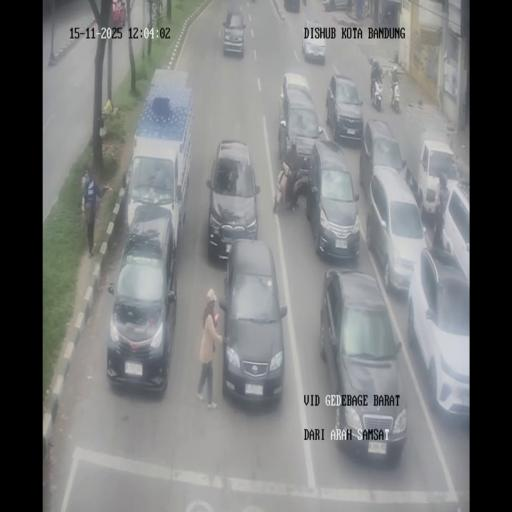car: (321, 268, 405, 460), (105, 204, 179, 392), (407, 243, 469, 426), (219, 240, 286, 408), (366, 166, 426, 294), (205, 138, 261, 262), (308, 138, 360, 262), (277, 74, 320, 172), (325, 71, 363, 145), (222, 3, 246, 57), (302, 19, 326, 63)
truck: (370, 72, 383, 112), (390, 78, 400, 112), (384, 7, 392, 24), (364, 0, 370, 18)
